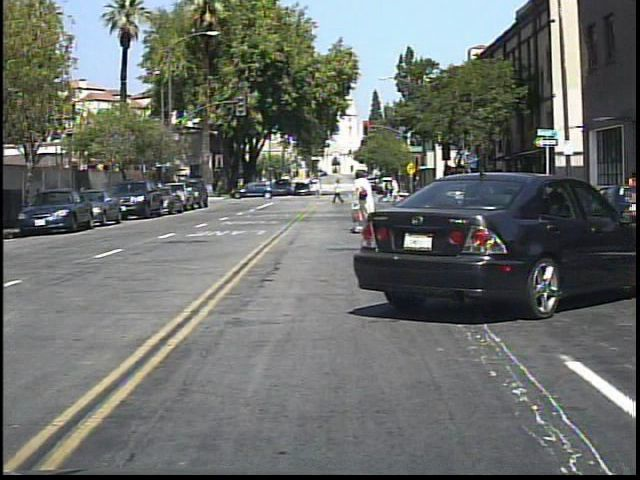person: (348, 165, 382, 237), (621, 164, 639, 232), (515, 164, 534, 223), (386, 170, 406, 204), (330, 177, 346, 207)
